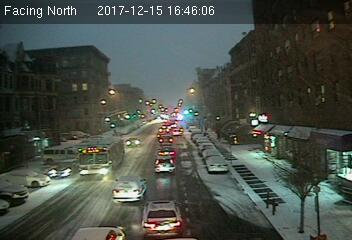bus: (77, 138, 126, 177)
car: (141, 199, 183, 236), (110, 175, 146, 202), (205, 155, 228, 172), (154, 157, 175, 174), (157, 148, 175, 158), (158, 135, 173, 146), (125, 136, 141, 145)
